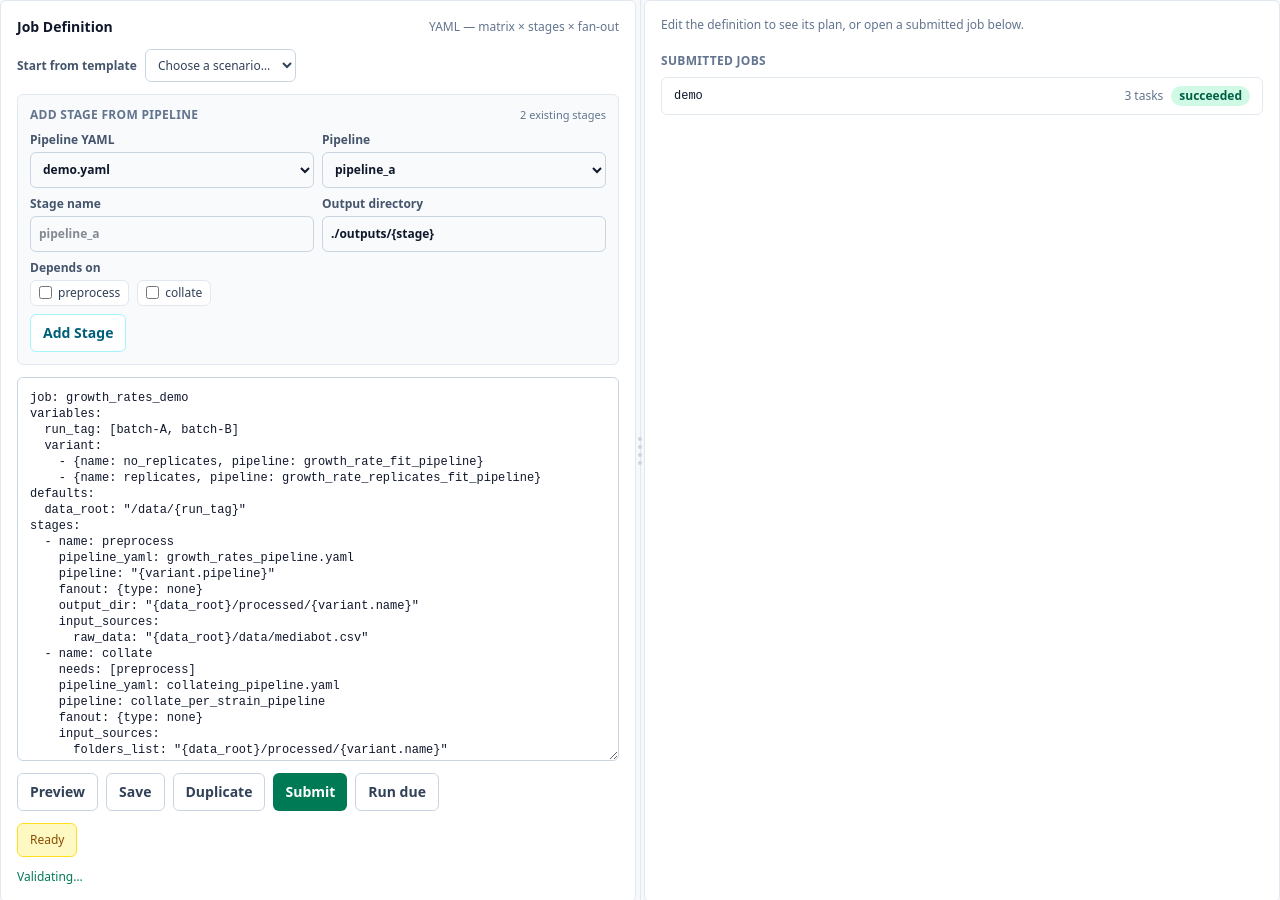
it: JobDefinitionPanel › loads a selected template into the editor
Select "empty" in the dropdown named "Job definition template": (220, 66) [145,49,296,82]
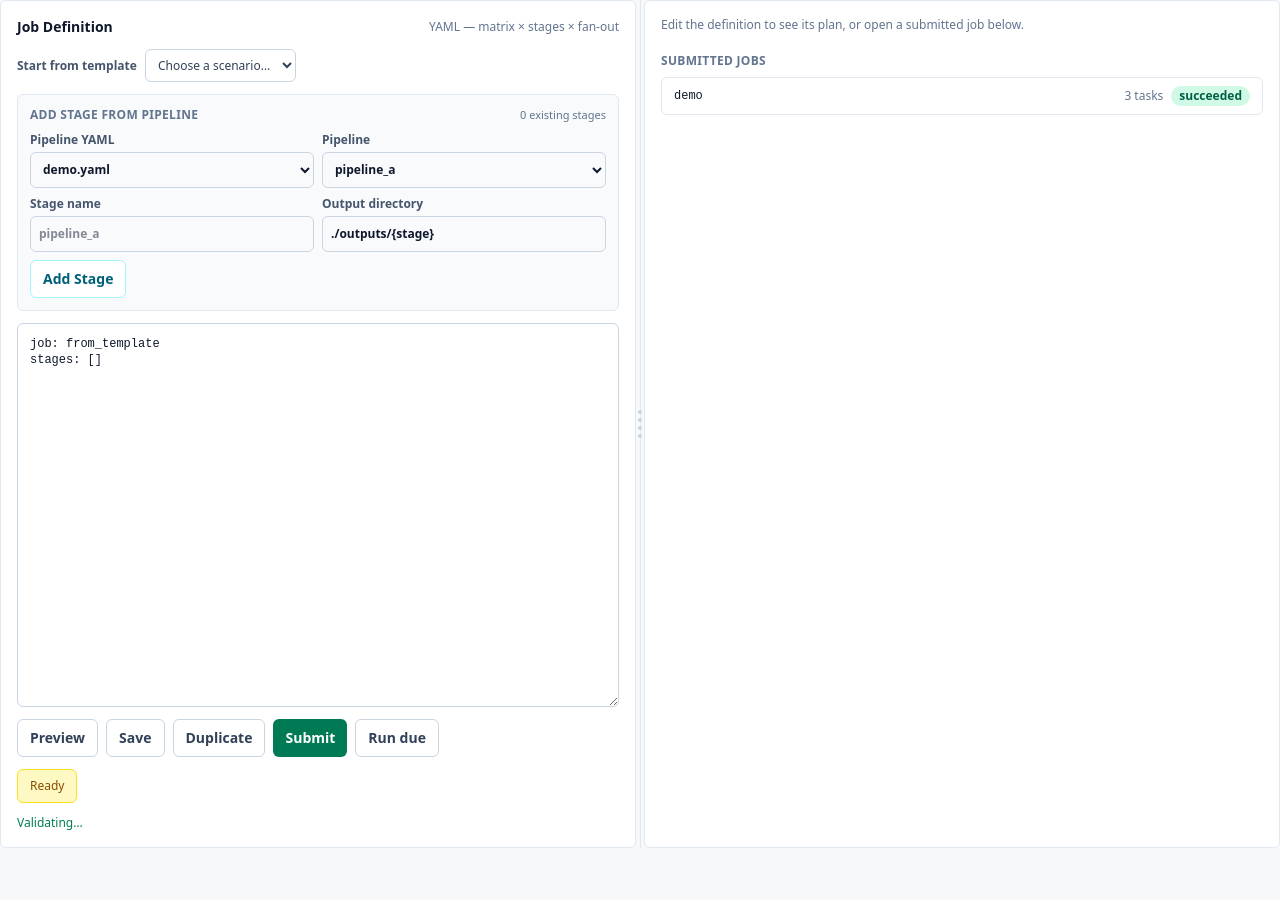
Now the text box showing "job: from_template" is shown, box [17,322,619,706]
